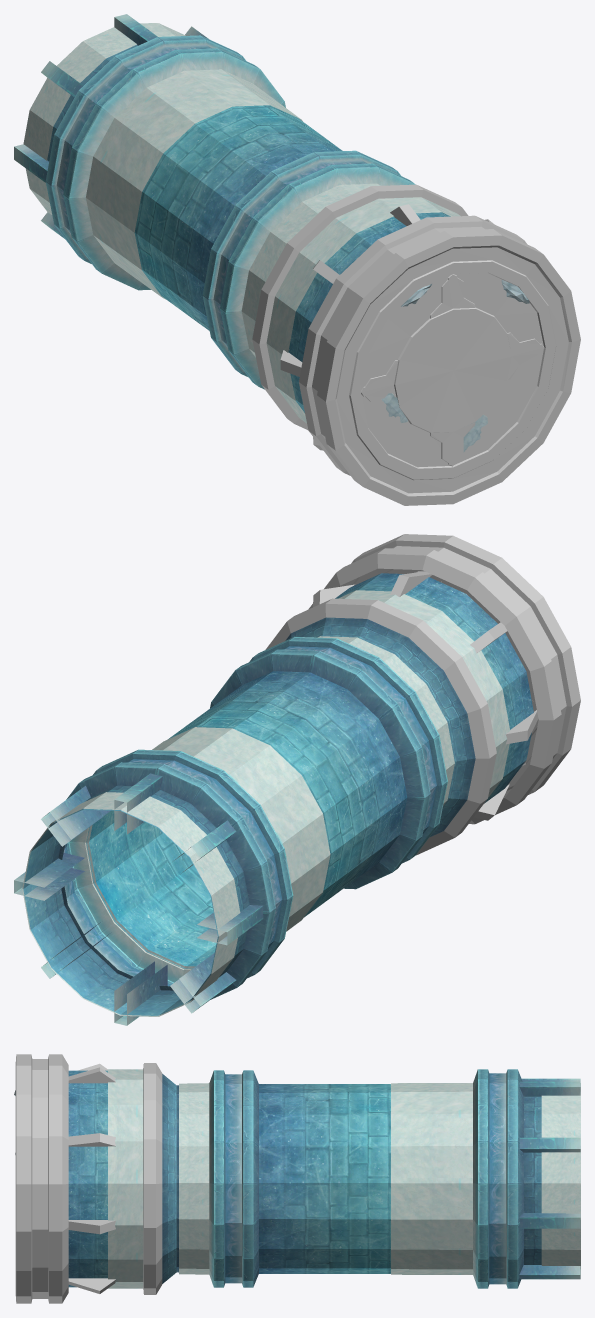
The model's file is huodong_fuben_660_tiaowangtai_gai.obj.
The picture shows the model from 3 angles, top to bottom: view 1: azimuth 30°, elevation 25°; view 2: azimuth 150°, elevation 25°; view 3: azimuth 270°, elevation 25°; orthographic projection. The views are drawn at different scales.
Parts seen in each view (by area): view 1: huodong_fuben_660_tiaowangtai__gai; view 2: huodong_fuben_660_tiaowangtai__gai; view 3: huodong_fuben_660_tiaowangtai__gai.
Boxes of the visible parts, x1=… form: huodong_fuben_660_tiaowangtai__gai: x1=14, y1=14, x2=580, y2=505; huodong_fuben_660_tiaowangtai__gai: x1=14, y1=534, x2=580, y2=1025; huodong_fuben_660_tiaowangtai__gai: x1=14, y1=1054, x2=580, y2=1303.
Bounding box in the file's own units: 502 × 502 × 1140.
